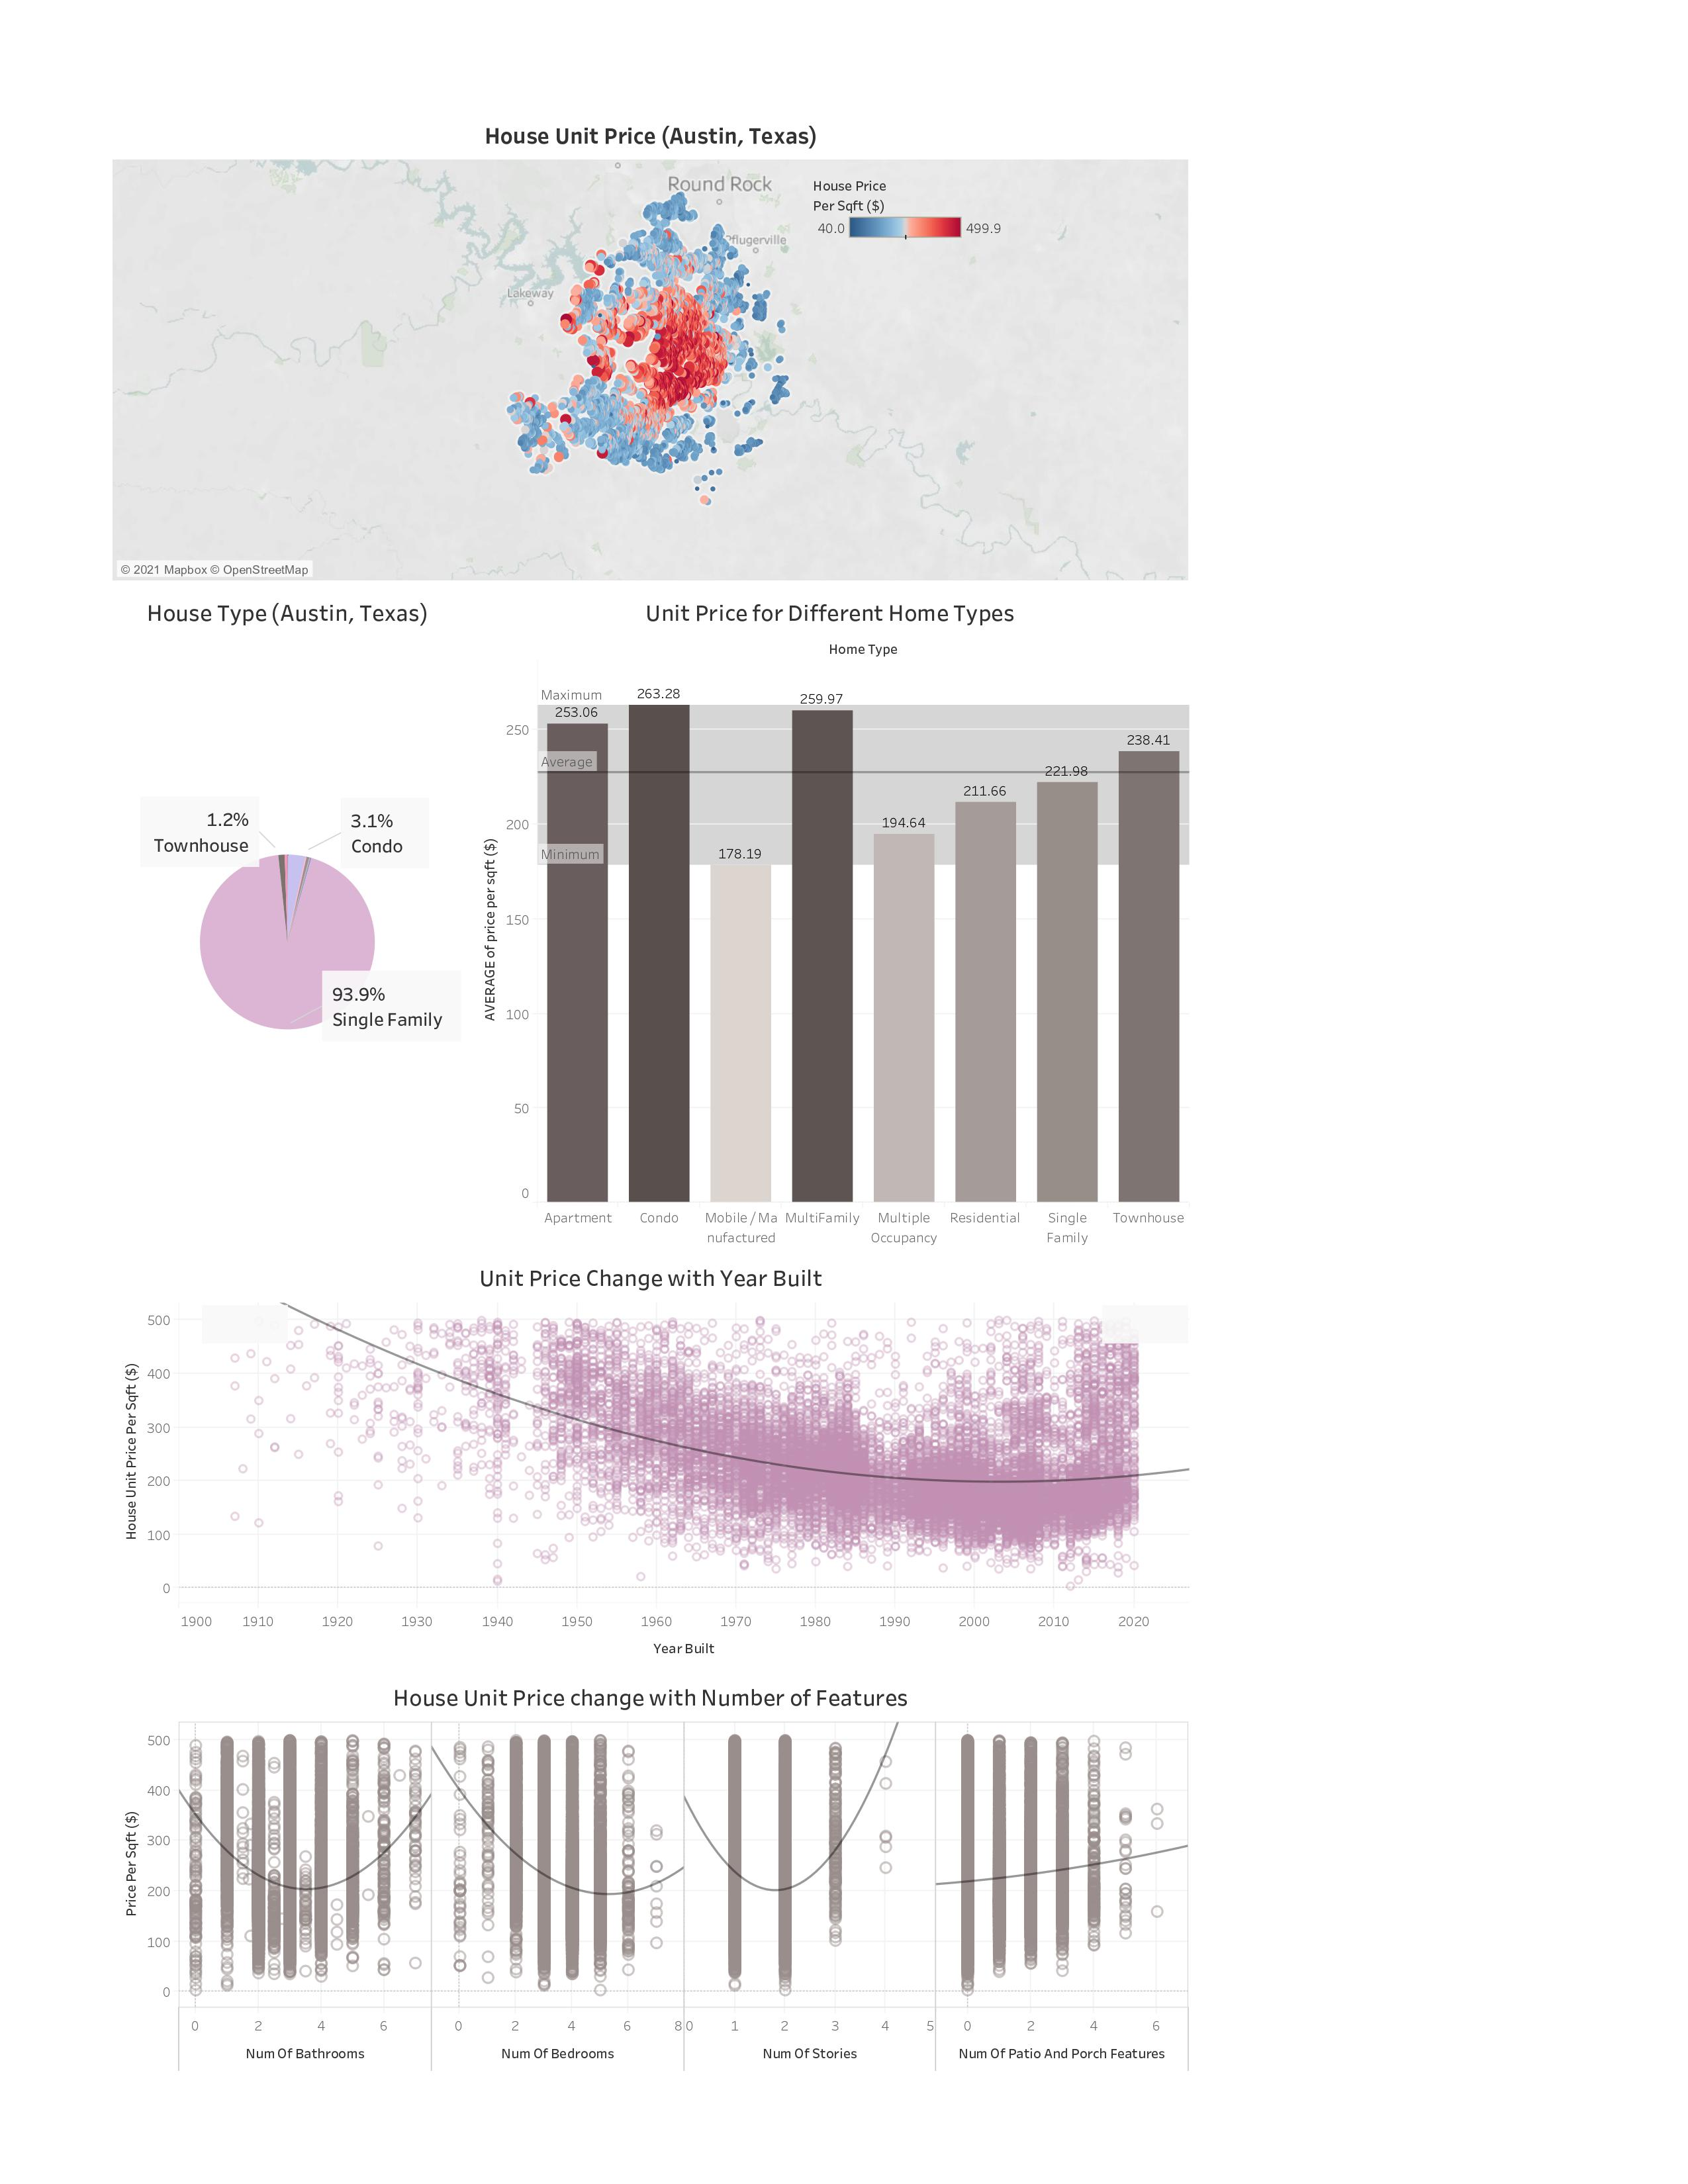

What the dashboard file says about the page in this screenshot:
{"tool":"tableau","page":{"name":"Dashboard 1","canvas":[1000,1800],"ordinal":0},"visuals":[{"type":"worksheet","title":"Sheet 1","mark":"Automatic","rows":["latitude"],"cols":["longitude"],"box":[8,8,984,433.2]},{"type":"legend","title":"Sheet 1","param":"[federated.0ak55kz0eeg6gk15krp3k0lcyird].[sum:price_per_sqft:qk]","box":[647,65,176,107]},{"type":"worksheet","title":"Sheet 2","mark":"Pie","box":[8,441.2,325,602.8]},{"type":"worksheet","title":"Sheet 3","mark":"Automatic","rows":["AVERAGE of price_per_sqft"],"cols":["homeType"],"box":[333,441.2,659,602.8]},{"type":"worksheet","title":"Sheet 4","mark":"Automatic","rows":["price_per_sqft"],"cols":["yearBuilt"],"box":[8,1044,984,380]},{"type":"worksheet","title":"Sheet 5","mark":"Automatic","rows":["price_per_sqft"],"cols":["numOfBathrooms","numOfBedrooms","numOfStories","numOfPatioAndPorchFeatures"],"box":[8,1424,984,368]}]}

Visuals, with their boxes on the page's 1000x1800 design canvas (x1, y1, x2, y2). These are canvas units, not pixel positions in the 1688x2184 screenshot, which may show the page scaled, cropped or inside an application window:
"Sheet 1" worksheet: 8, 8, 992, 441
"Sheet 1" legend: 647, 65, 823, 172
"Sheet 2" worksheet (Pie marks): 8, 441, 333, 1044
"Sheet 3" worksheet: 333, 441, 992, 1044
"Sheet 4" worksheet: 8, 1044, 992, 1424
"Sheet 5" worksheet: 8, 1424, 992, 1792
